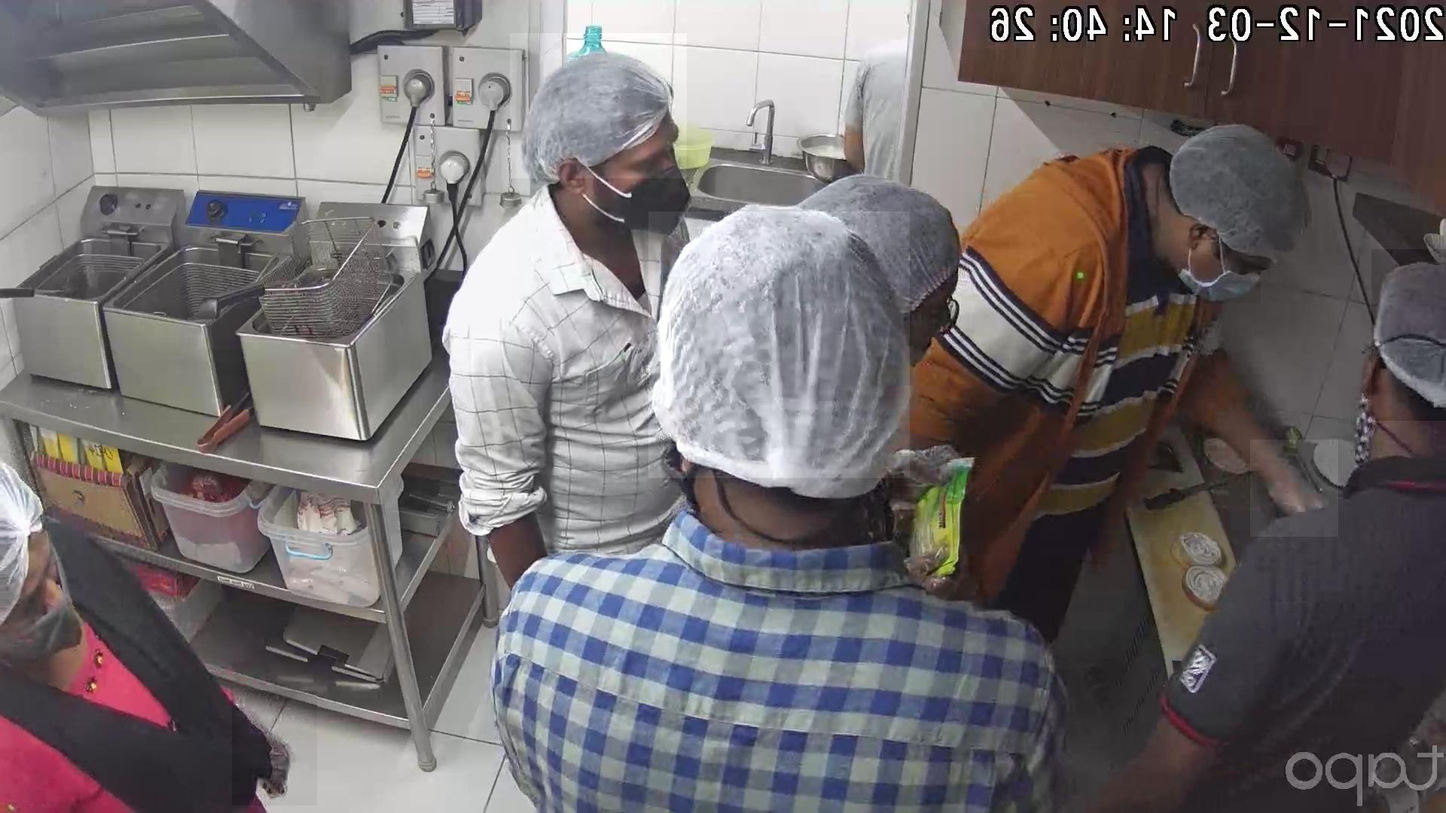gloves: (649, 212, 910, 478), (511, 33, 688, 178), (789, 169, 969, 309), (1161, 126, 1319, 265), (1371, 249, 1446, 421), (0, 437, 56, 647)
mask: (604, 148, 684, 230)
no_apron: (232, 691, 317, 806), (1251, 440, 1339, 537)
no_hairnet: (2, 550, 69, 636), (1179, 252, 1261, 303)
